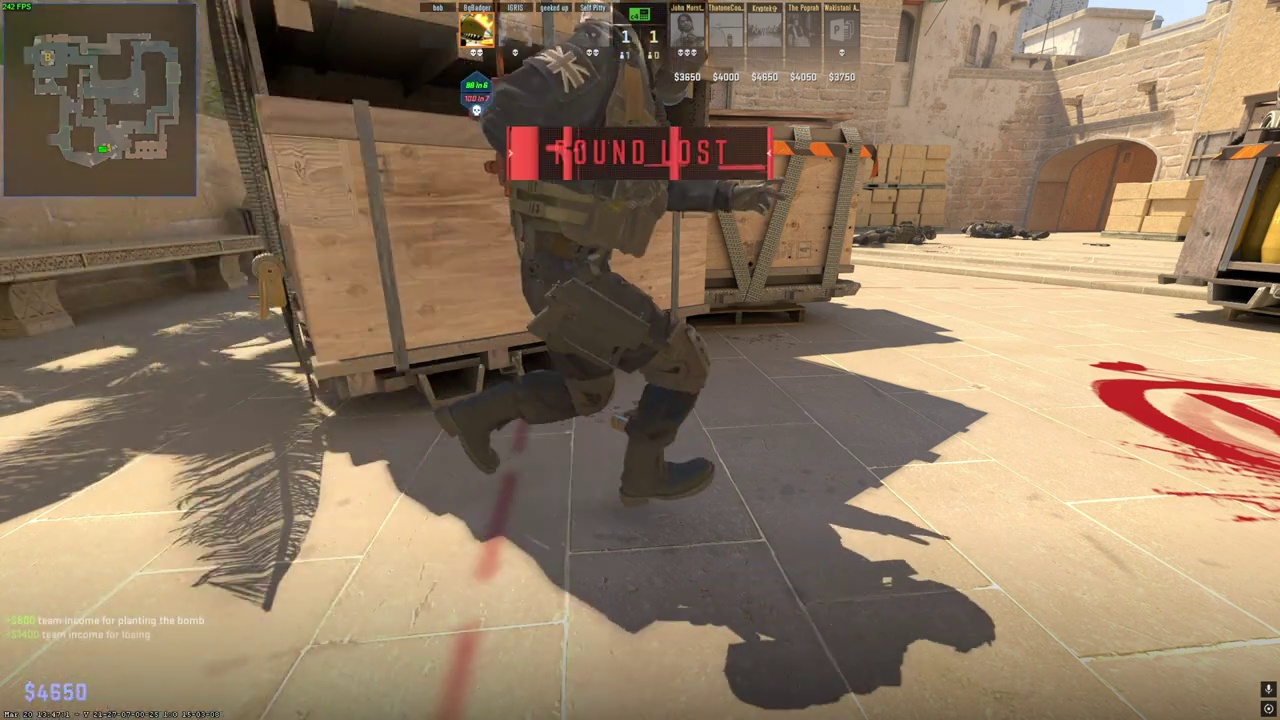CT: (491, 4, 714, 508)
